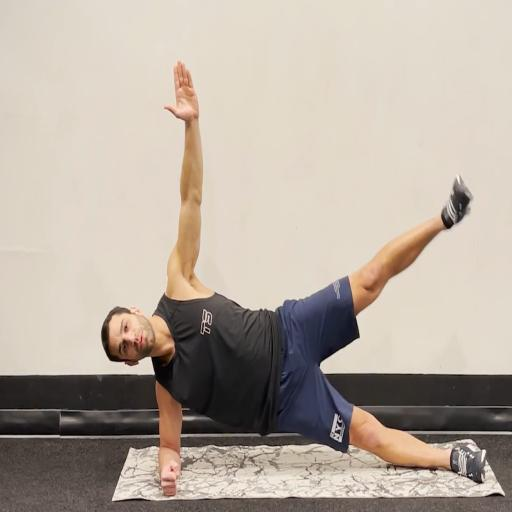Normal_BrenchPress: (99, 60, 485, 499)
